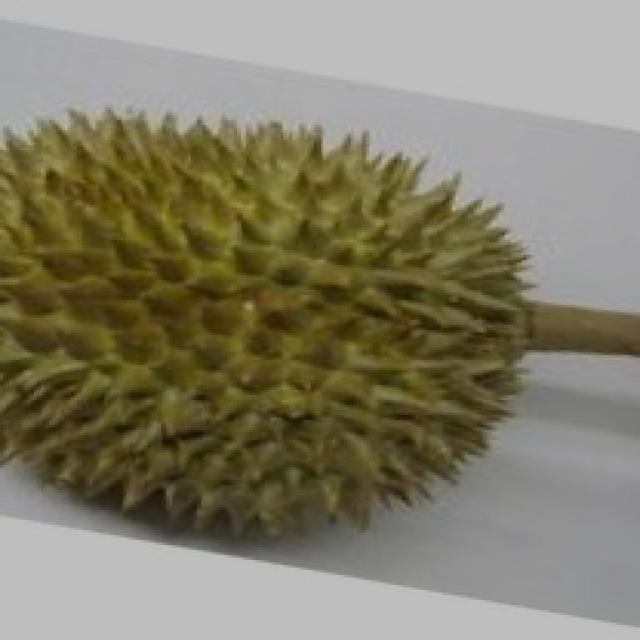fruit: (222, 158, 603, 590), (0, 205, 345, 593)
